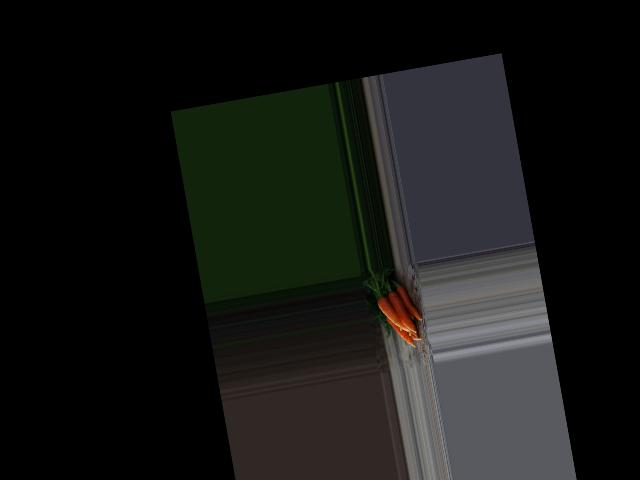carrot: (395, 278, 419, 326)
